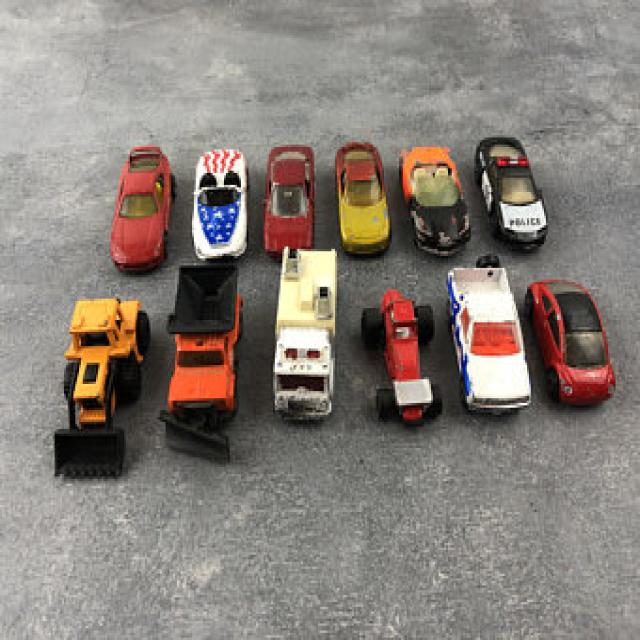Car: (524, 278, 616, 406), (472, 135, 548, 249), (109, 144, 171, 272), (333, 140, 390, 256), (190, 147, 247, 261), (262, 142, 314, 256)
